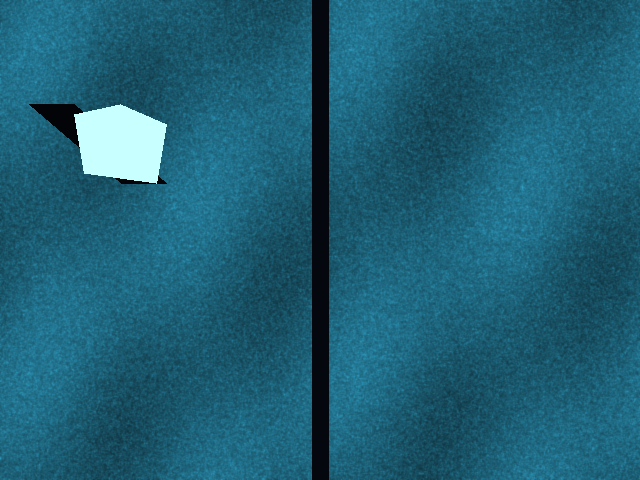Unknown Debris: (74, 104, 166, 183)
